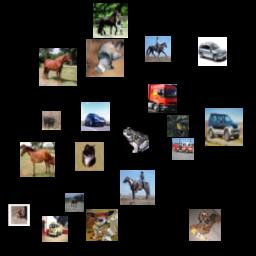automobile: (205, 108, 243, 146), (81, 102, 110, 131), (198, 37, 227, 66)
bird: (167, 115, 189, 137)
cat: (86, 39, 124, 77), (75, 142, 104, 171)
deer: (42, 111, 61, 130)
dog: (189, 209, 221, 241), (86, 209, 118, 241), (8, 204, 30, 226)
frog: (123, 127, 149, 153)
truck: (148, 84, 177, 113), (42, 216, 68, 242), (172, 138, 194, 160)
